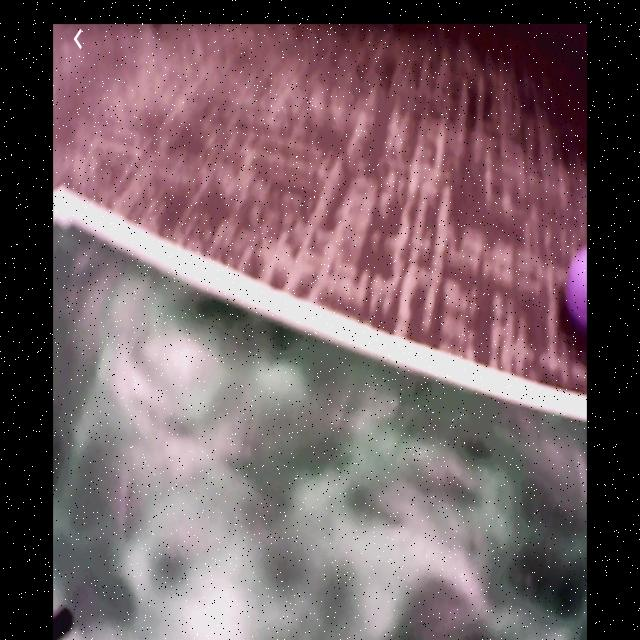ball: (566, 247, 587, 329)
